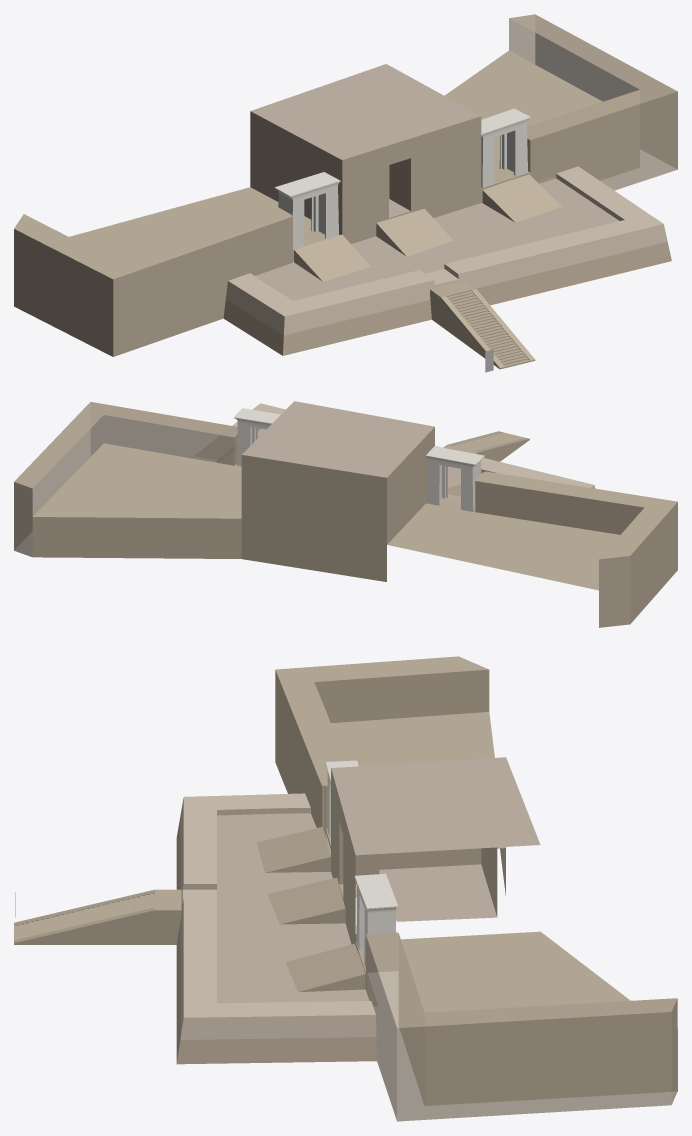
The model's file is SAN.glb.
3 views of the same model, one above another, from view 1: azimuth 30°, elevation 25°; view 2: azimuth 150°, elevation 25°; view 3: azimuth 270°, elevation 25° (orthographic). The views are drawn at different scales.
Parts seen in each view (by area): view 1: Mesh7 Model, Mesh3 Component_2_1 Model, Mesh2 Gate2_1_1 Model, Mesh1 Gate2_1 Model, Mesh5 Component_3_2 Model, Mesh6 Component_3_3 Model, Mesh4 Component_3_1 Model; view 2: Mesh7 Model, Mesh2 Gate2_1_1 Model, Mesh3 Component_2_1 Model, Mesh1 Gate2_1 Model; view 3: Mesh7 Model, Mesh3 Component_2_1 Model, Mesh5 Component_3_2 Model, Mesh6 Component_3_3 Model, Mesh4 Component_3_1 Model, Mesh1 Gate2_1 Model.
Boxes of the visible parts, x1,y1,x2,y2 form: Mesh7 Model: [14, 14, 677, 356]; Mesh3 Component_2_1 Model: [430, 280, 535, 369]; Mesh2 Gate2_1_1 Model: [274, 172, 340, 249]; Mesh1 Gate2_1 Model: [480, 108, 531, 187]; Mesh5 Component_3_2 Model: [482, 174, 561, 222]; Mesh6 Component_3_3 Model: [376, 208, 453, 256]; Mesh4 Component_3_1 Model: [294, 234, 371, 281]; Mesh7 Model: [14, 401, 677, 627]; Mesh2 Gate2_1_1 Model: [425, 446, 484, 511]; Mesh3 Component_2_1 Model: [443, 431, 529, 461]; Mesh1 Gate2_1 Model: [234, 408, 280, 466]; Mesh7 Model: [176, 656, 677, 1121]; Mesh3 Component_2_1 Model: [14, 889, 181, 944]; Mesh5 Component_3_2 Model: [285, 944, 366, 992]; Mesh6 Component_3_3 Model: [268, 877, 345, 924]; Mesh4 Component_3_1 Model: [257, 826, 330, 872]; Mesh1 Gate2_1 Model: [354, 873, 398, 967].
Size of the model in its own units: 50.79 by 9 by 38.28.
